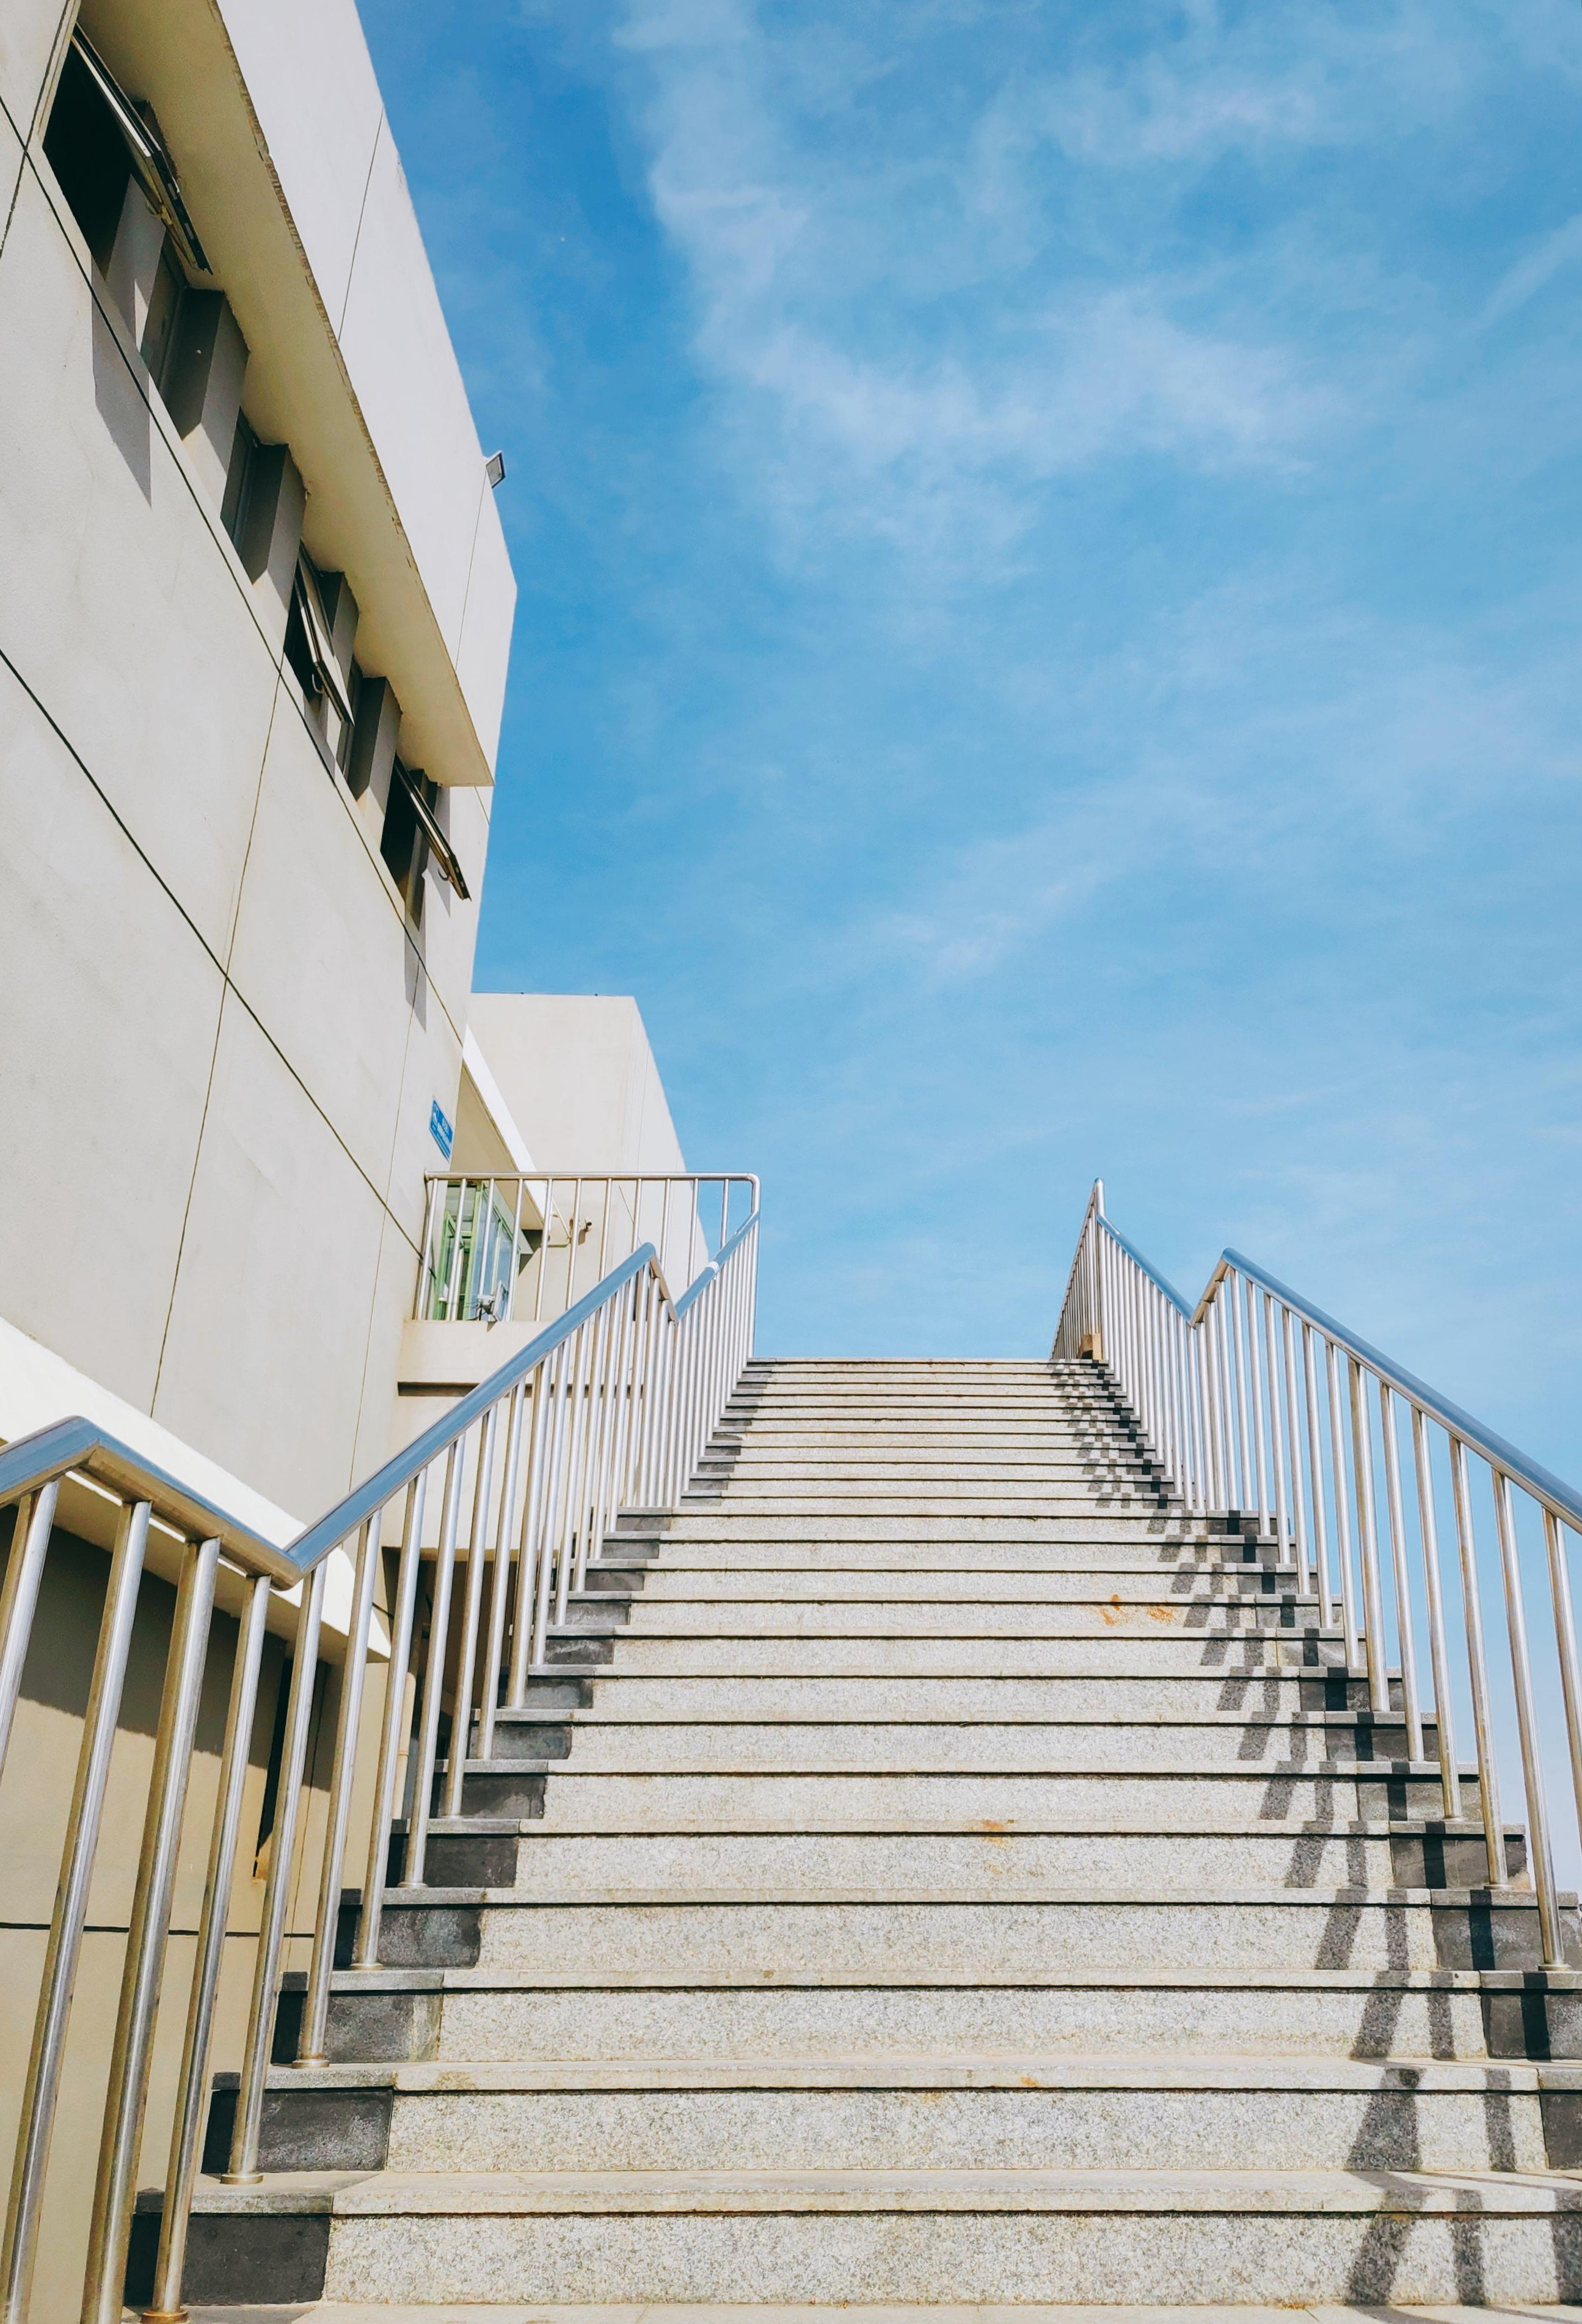upstairs: (456, 1771, 1393, 2324)
